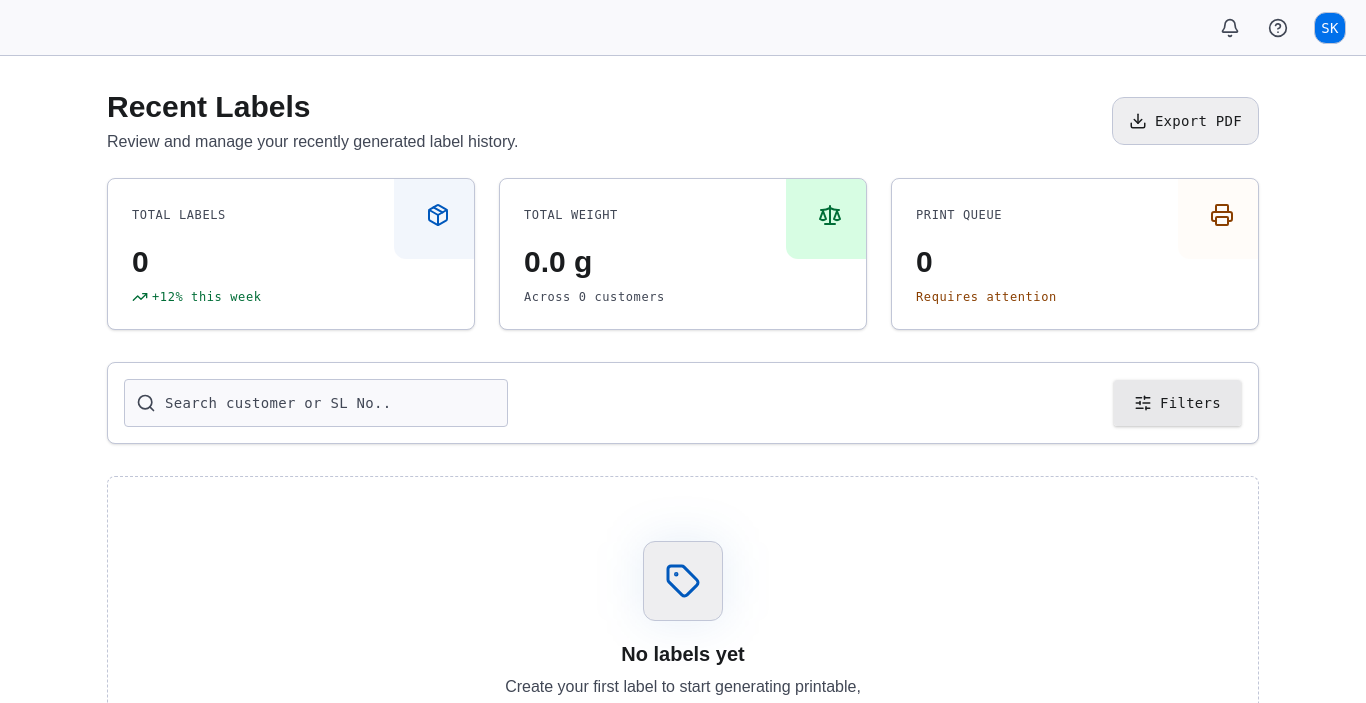
it: Dashboard filter sheet — presets › applies and toggles the unprinted preset
The image size is (1366, 703).
Click the button "Filters" at [1178, 403], box [1113,379,1242,427]
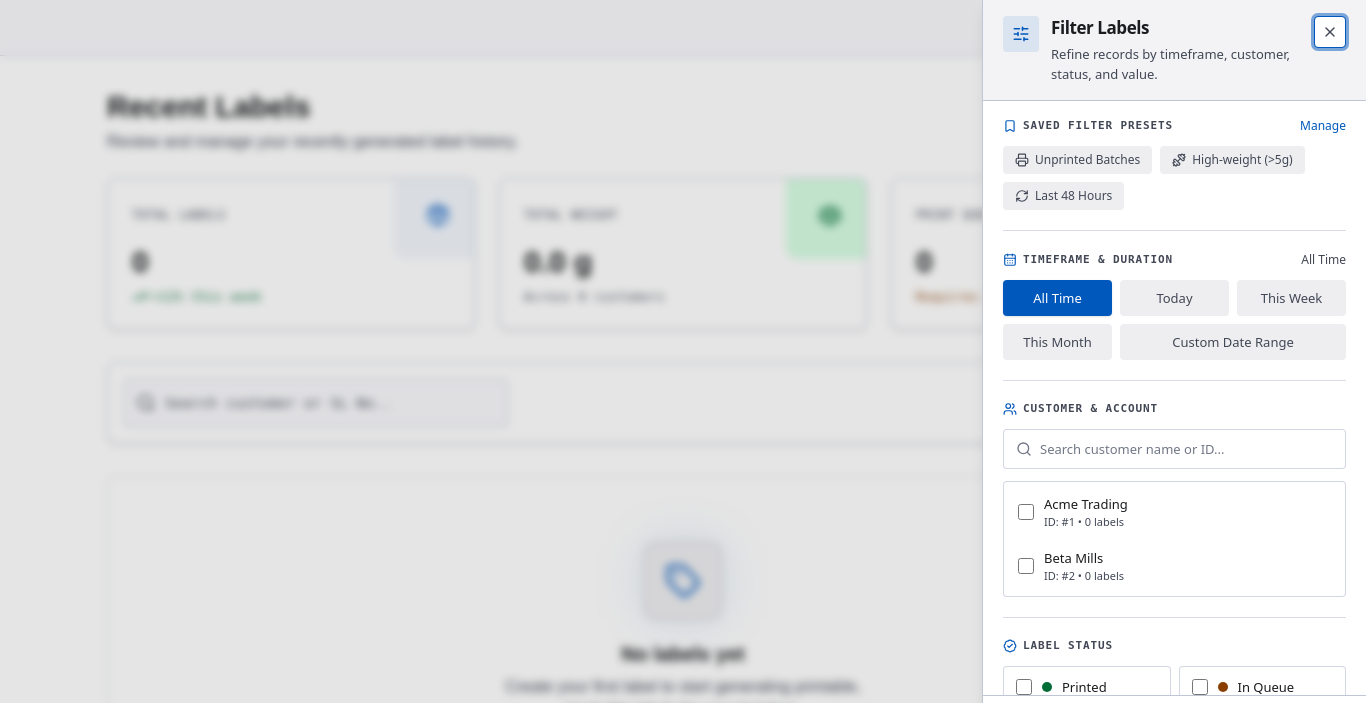
Expected: the heading "Filter Labels" is shown, [1051,16,1149,40]
Click the button "Unprinted Batches" at [1078, 160], box [1003,146,1152,174]
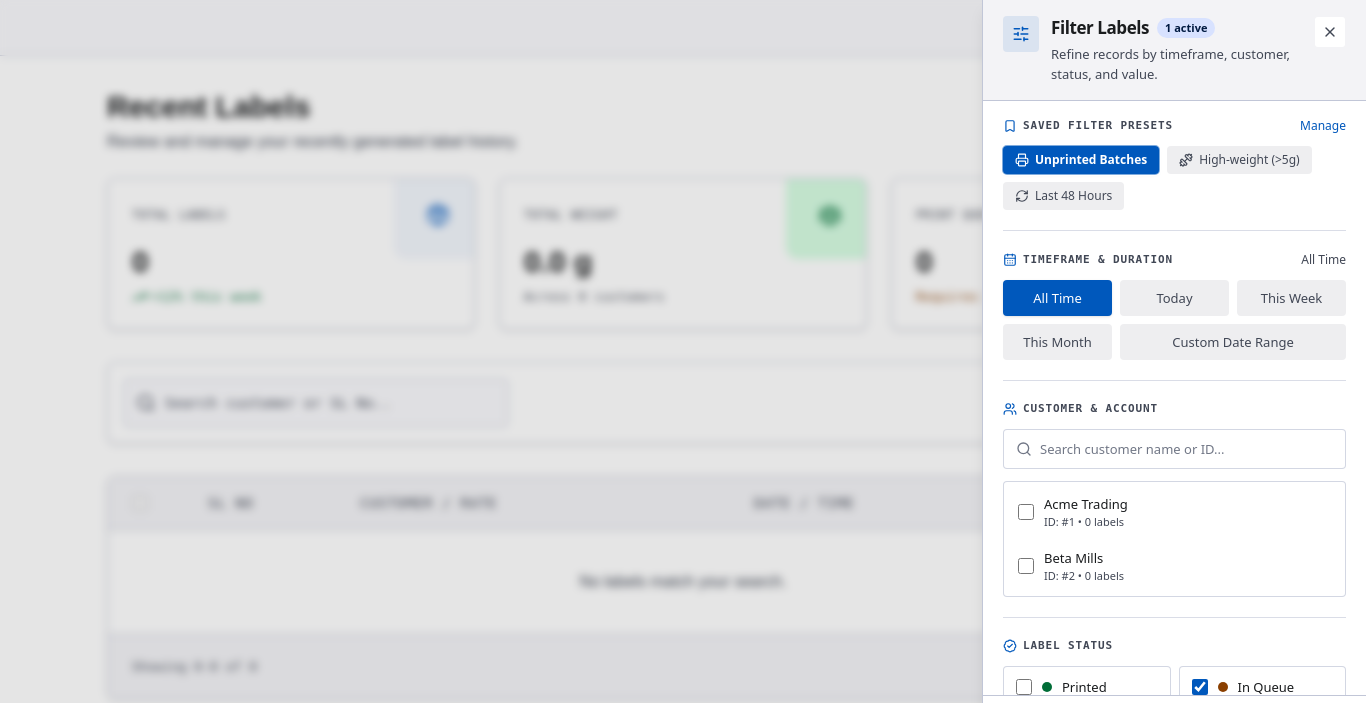
Expected: the text "1 active" is shown, [1157,18,1215,38]
Click the button "Unprinted Batches" at [1081, 160], box [1003,146,1159,174]
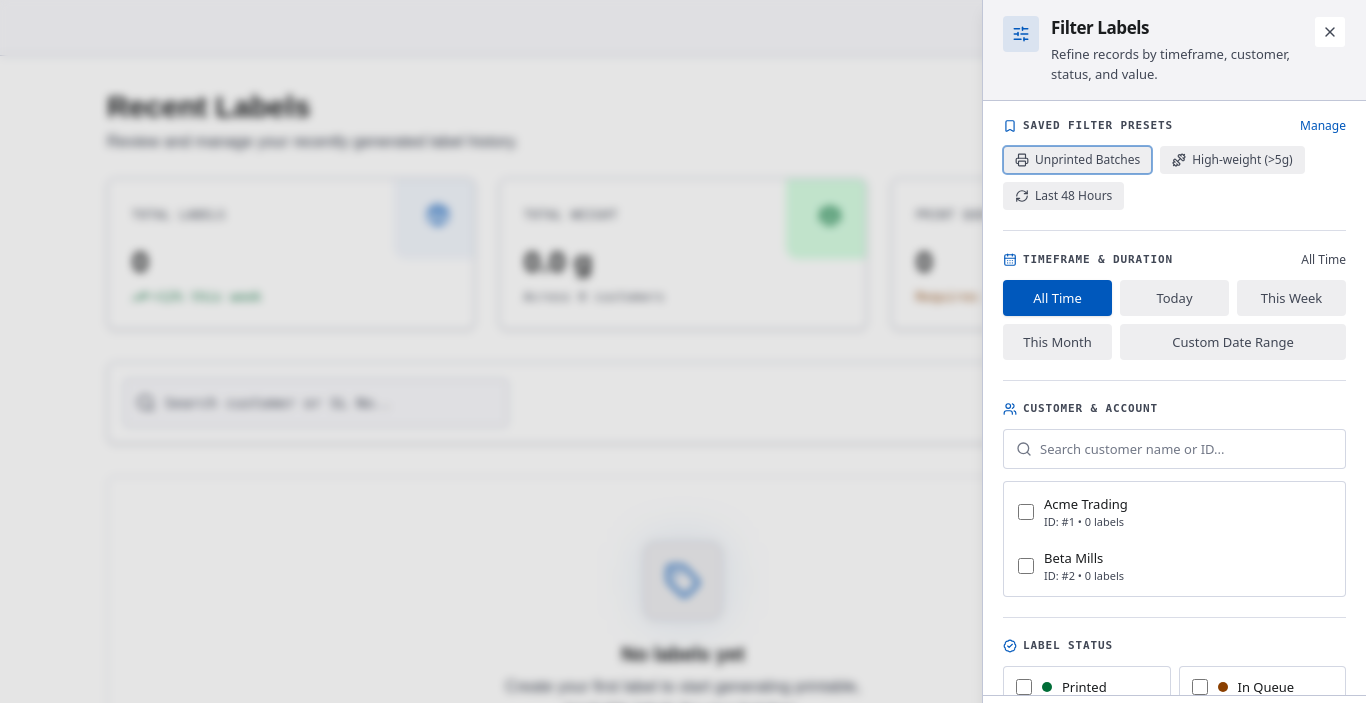
Expected: the text "1 active" is gone
